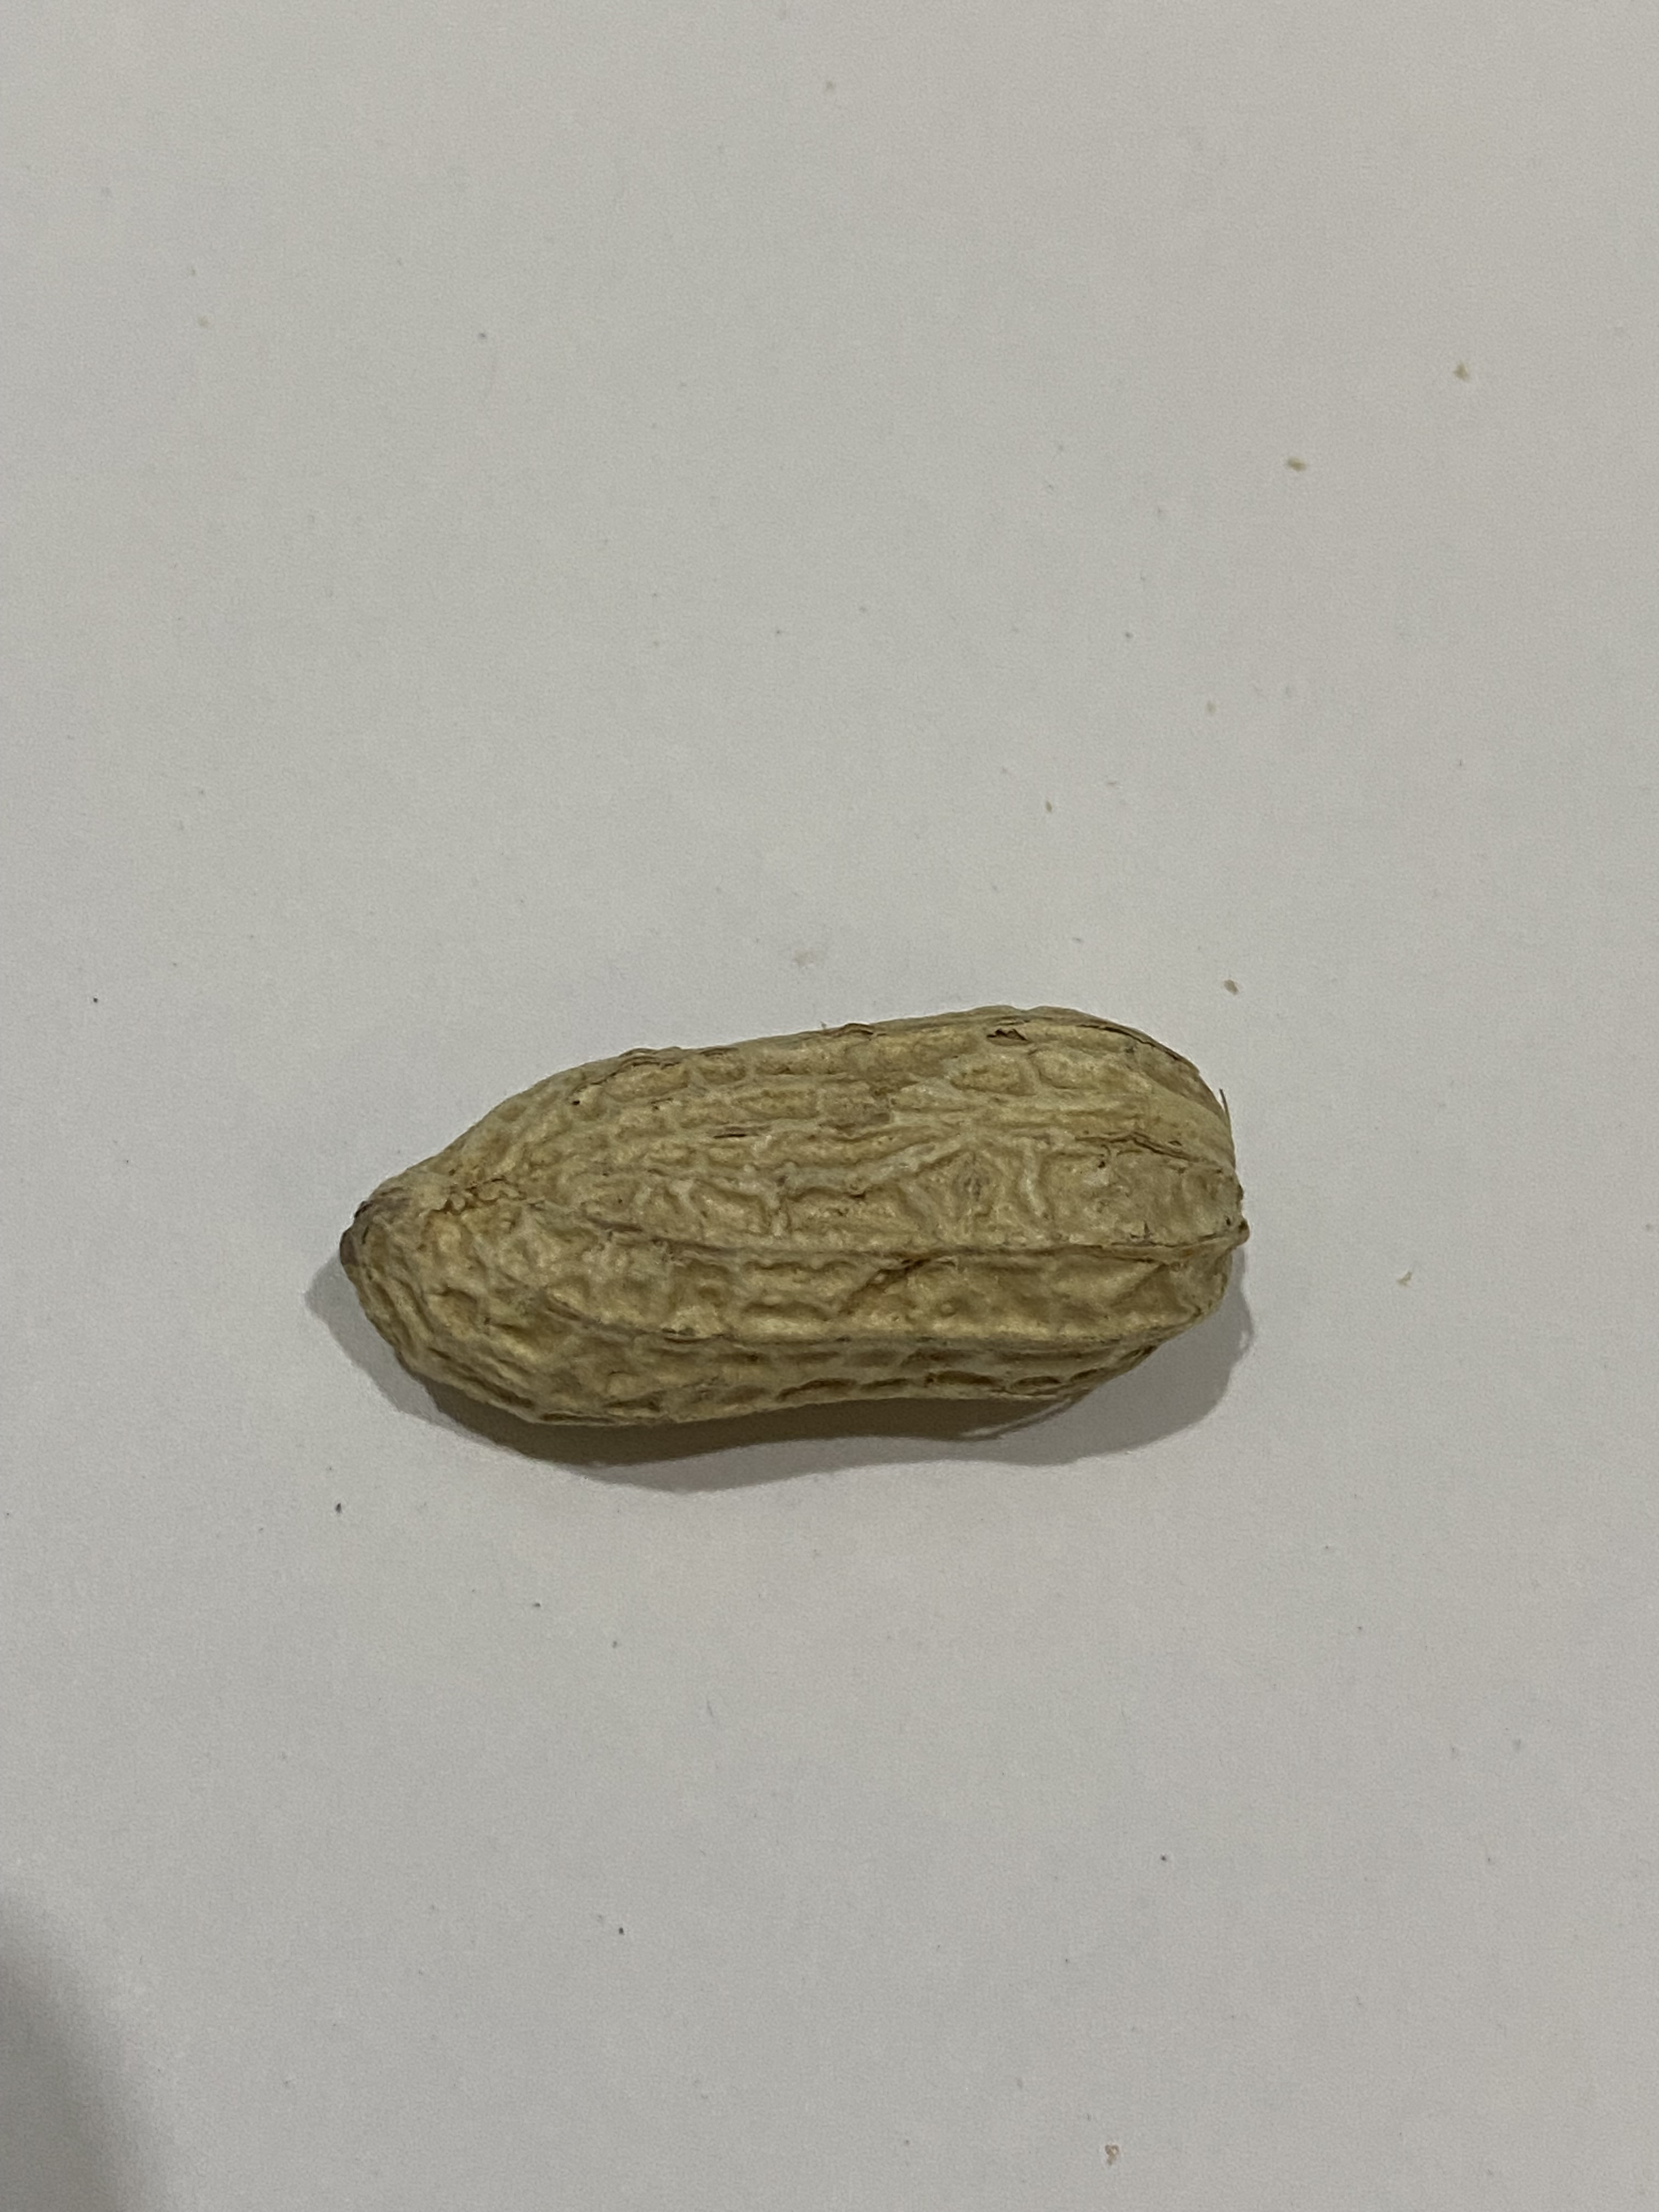kacang2: (282, 979, 1274, 1439)
